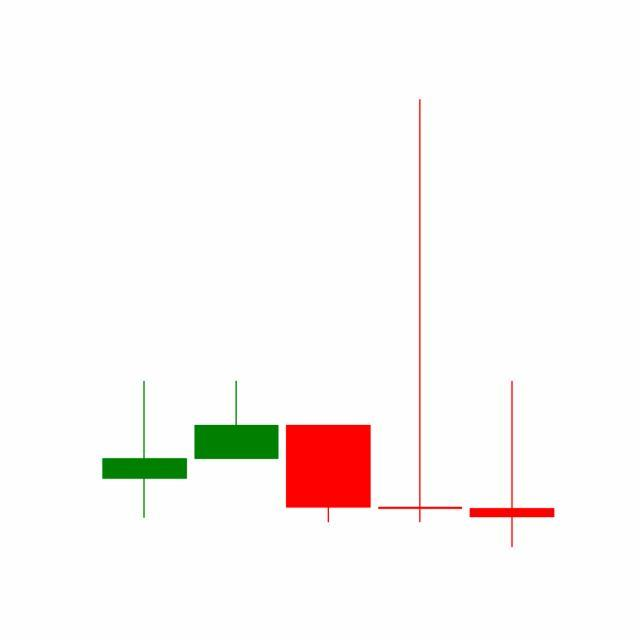Spinning Top: (374, 94, 468, 528)
